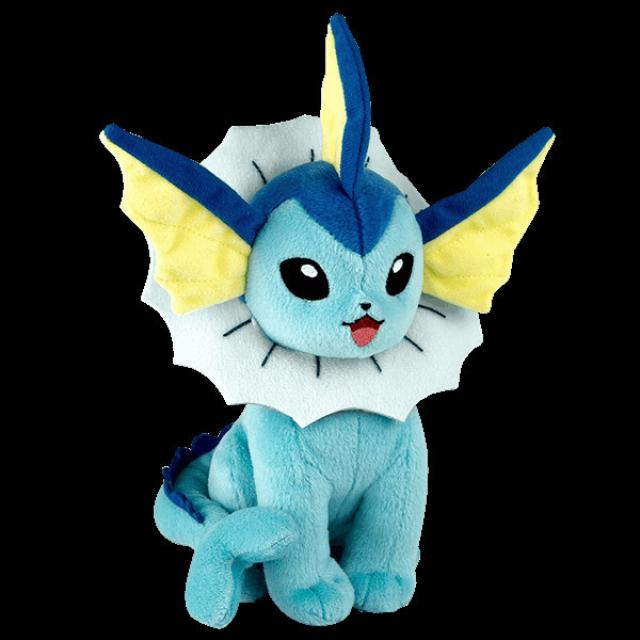Vaporeon: (102, 90, 478, 636)
